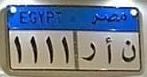1: (44, 34, 57, 66), (12, 34, 25, 64), (28, 33, 40, 64), (60, 35, 72, 65)
alif: (103, 36, 114, 66)
noon: (120, 37, 138, 64)
raa: (80, 40, 97, 65)
